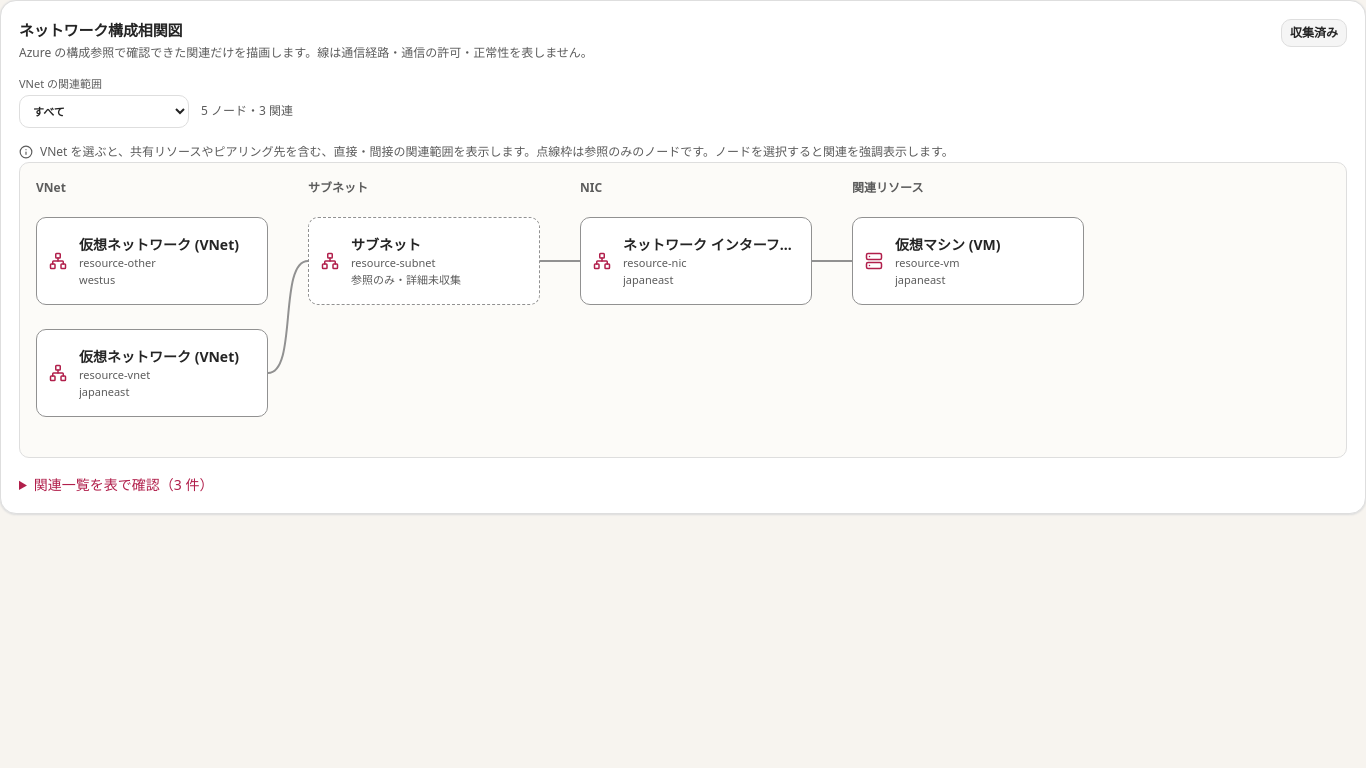
Scenario: Topology graph › never offers details for a reference-only node or invents edges for isolated nodes
Click the button with aria-label "サブネット resource-subnetの関連を表示" at (424, 261), box [308,217,540,305]
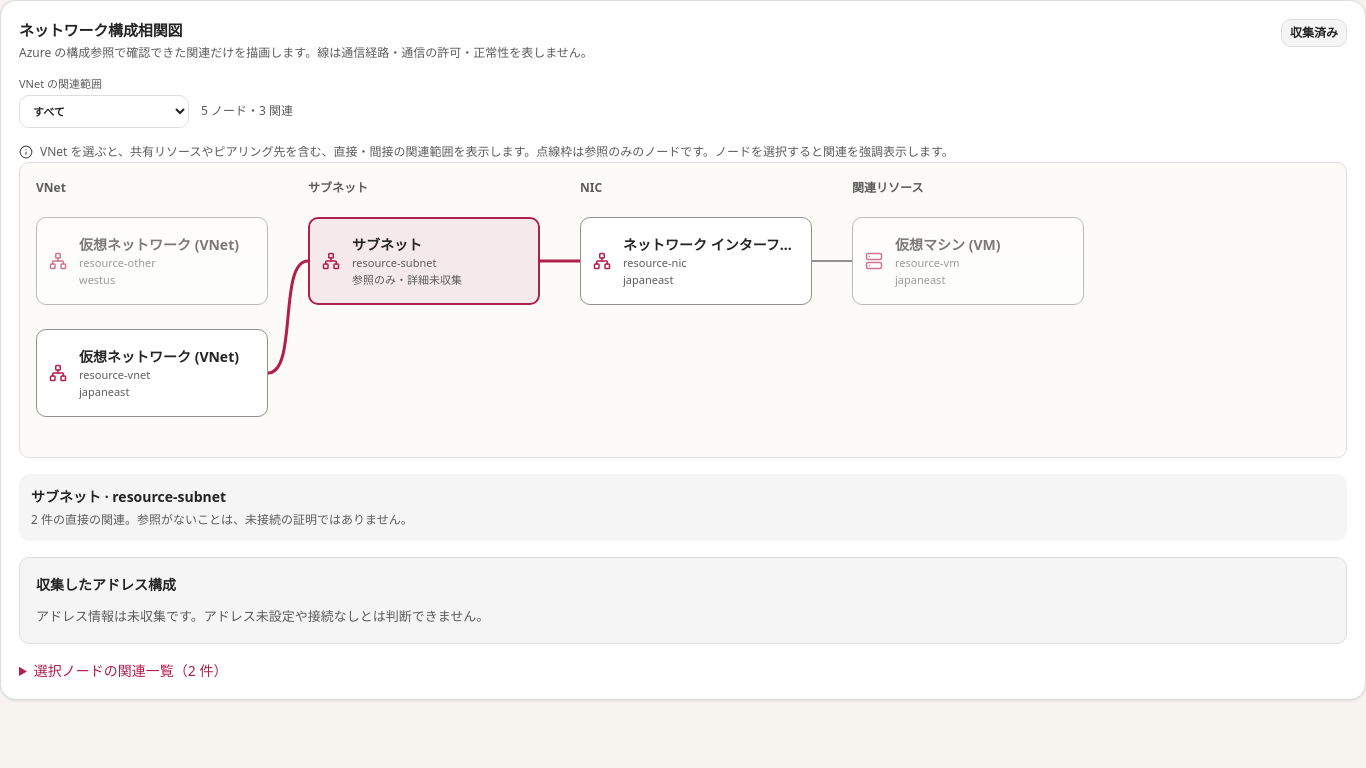
Select "resource-other" in the dropdown labelled "VNet の関連範囲" at (104, 112), box [19,95,189,128]
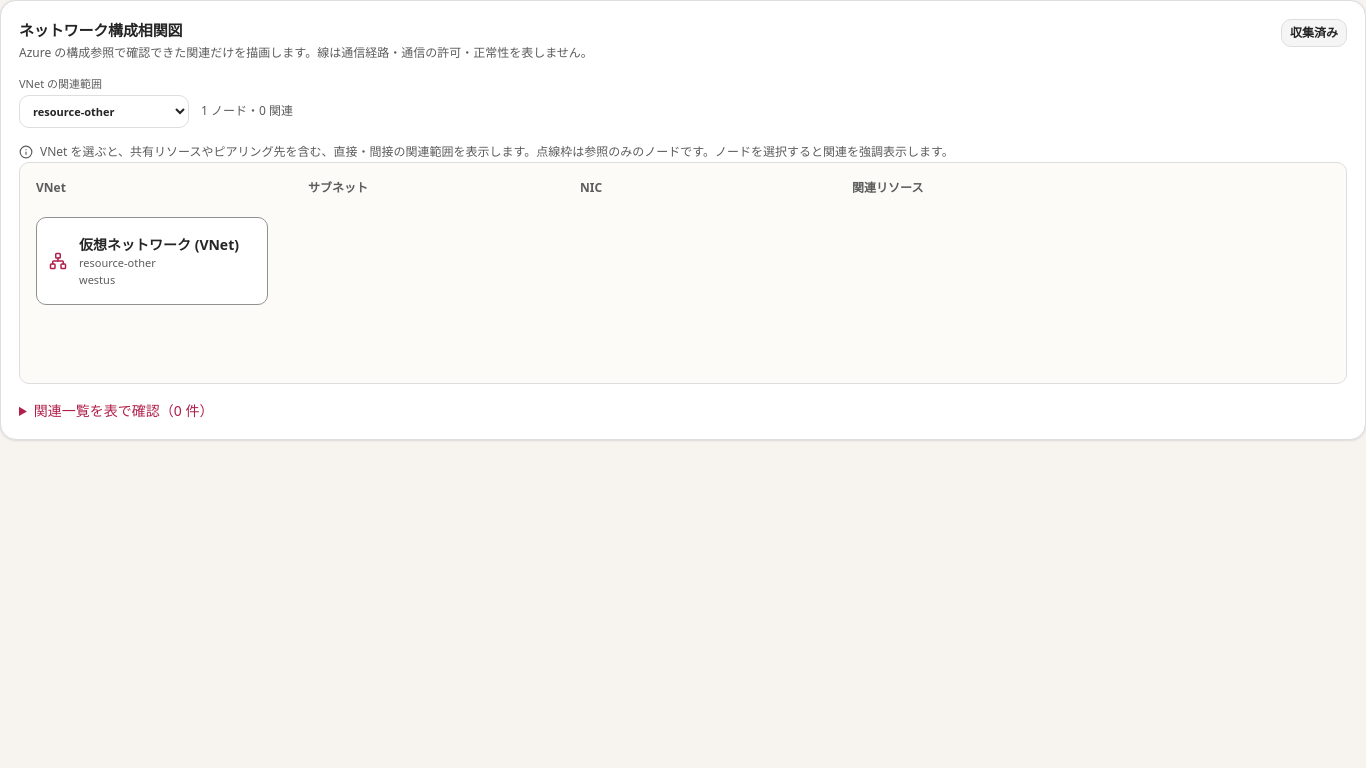
Expected: the number of buttons with class "topology-node" is 1, [36,217,268,305]
